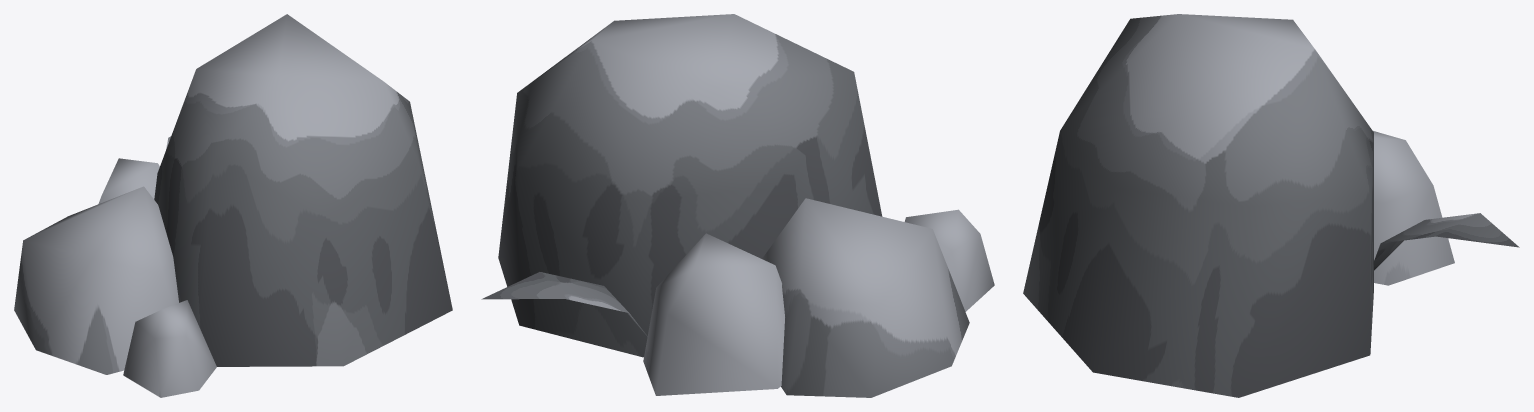
File: Snow Marb 1_preview_3DS_simplified.glb
3 renders of one model, left to right at view 1: azimuth 30°, elevation 25°; view 2: azimuth 150°, elevation 25°; view 3: azimuth 270°, elevation 25°, orthographic. The views are drawn at different scales.
Visible parts, largest first — view 1: Marine Park Empire model; view 2: Marine Park Empire model; view 3: Marine Park Empire model.
Part boxes in pixels (x1=…): Marine Park Empire model: x1=14, y1=14, x2=452, y2=397; Marine Park Empire model: x1=481, y1=14, x2=994, y2=397; Marine Park Empire model: x1=1023, y1=14, x2=1519, y2=397.
Bounding box in the file's own units: 32.29 × 18.8 × 29.87.
1 material, 1 textured.
